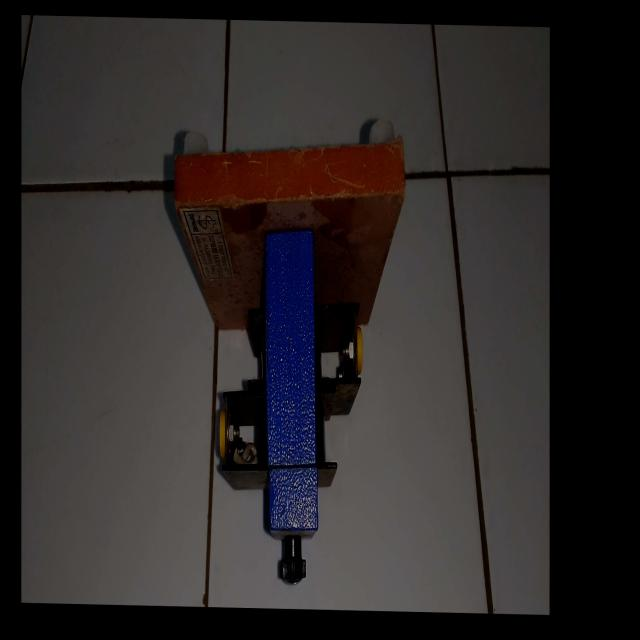Transformer Demo: (157, 116, 416, 593)
